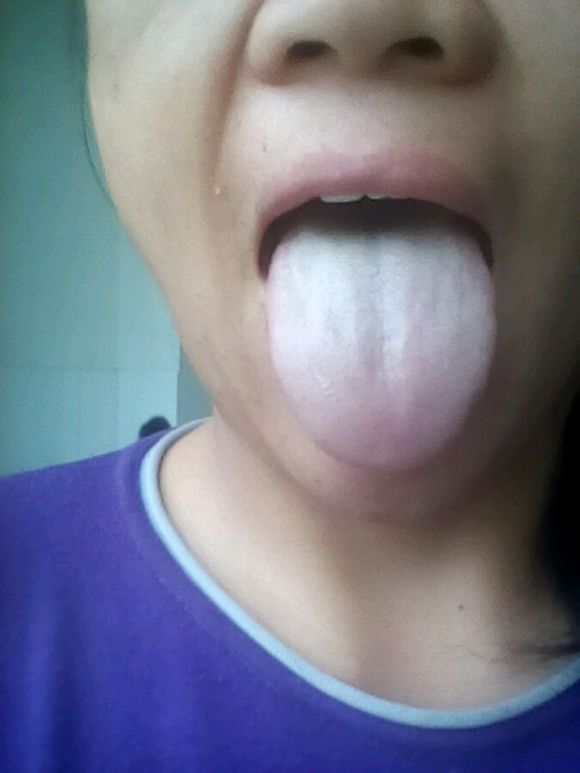baitaishe: (266, 201, 497, 469)
